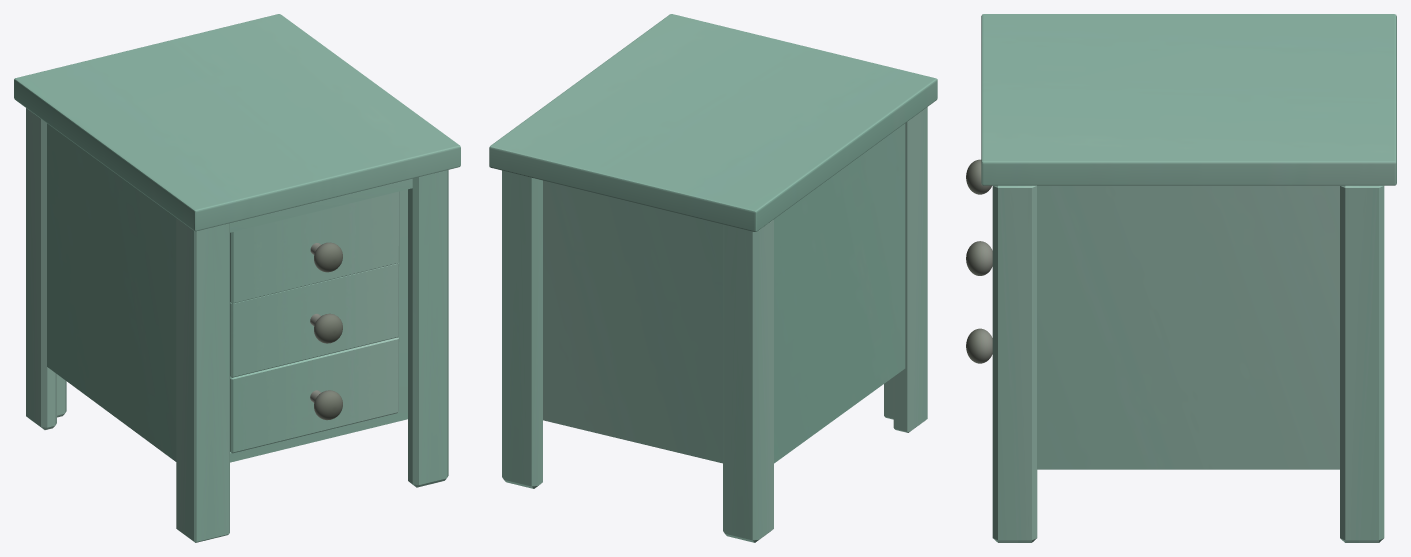
The model's file is SM_Drawer.fbx.
3 views of the same model, side by side, from view 1: azimuth 30°, elevation 25°; view 2: azimuth 150°, elevation 25°; view 3: azimuth 270°, elevation 25° (orthographic). The views are drawn at different scales.
Parts seen in each view (by area): view 1: Drawer_body, drawer3, drawer2, drawer1, knob3, knob4, knob; view 2: Drawer_body; view 3: Drawer_body, knob4, knob3, knob.
Boxes of the visible parts, x1,y1,x2,y2 form: Drawer_body: [14, 14, 460, 542]; drawer3: [230, 337, 399, 453]; drawer2: [230, 262, 399, 377]; drawer1: [230, 191, 399, 303]; knob3: [314, 313, 342, 343]; knob4: [314, 390, 342, 420]; knob: [314, 242, 342, 272]; Drawer_body: [489, 14, 937, 542]; Drawer_body: [981, 14, 1396, 542]; knob4: [966, 328, 992, 363]; knob3: [966, 241, 992, 275]; knob: [966, 159, 991, 194].
Size of the model in its own units: 53.46 by 64.69 by 65.34.
Materials: 2 (2 with a texture image).
